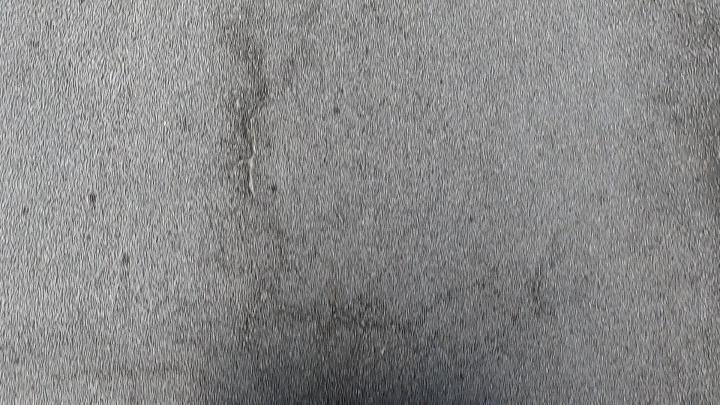Crack: (233, 43, 273, 197), (240, 46, 267, 196)
